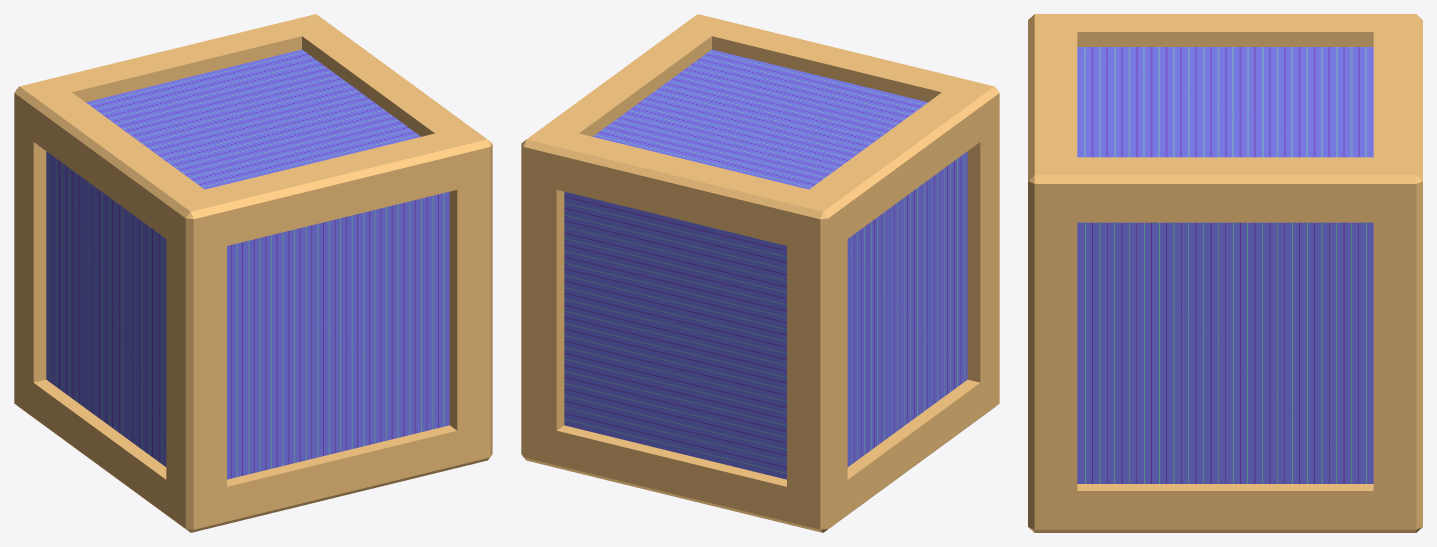
Rendered from WoodBlocks_Ye_01.FBX.
3 renders of one model, left to right at view 1: azimuth 30°, elevation 25°; view 2: azimuth 150°, elevation 25°; view 3: azimuth 270°, elevation 25°, orthographic. The views are drawn at different scales.
Parts seen in each view (by area): view 1: WoodBlocks_Ye_Rough_01, WoodBlocks_Ye_01; view 2: WoodBlocks_Ye_Rough_01, WoodBlocks_Ye_01; view 3: WoodBlocks_Ye_Rough_01, WoodBlocks_Ye_01.
Boxes of the visible parts, x1,y1,x2,y2 form: WoodBlocks_Ye_Rough_01: (46, 49, 449, 479); WoodBlocks_Ye_01: (14, 14, 492, 532); WoodBlocks_Ye_Rough_01: (564, 49, 967, 479); WoodBlocks_Ye_01: (521, 14, 999, 532); WoodBlocks_Ye_Rough_01: (1077, 47, 1373, 483); WoodBlocks_Ye_01: (1028, 14, 1422, 532).
Size of the model in its own units: 1.2 by 1.2 by 1.2.
